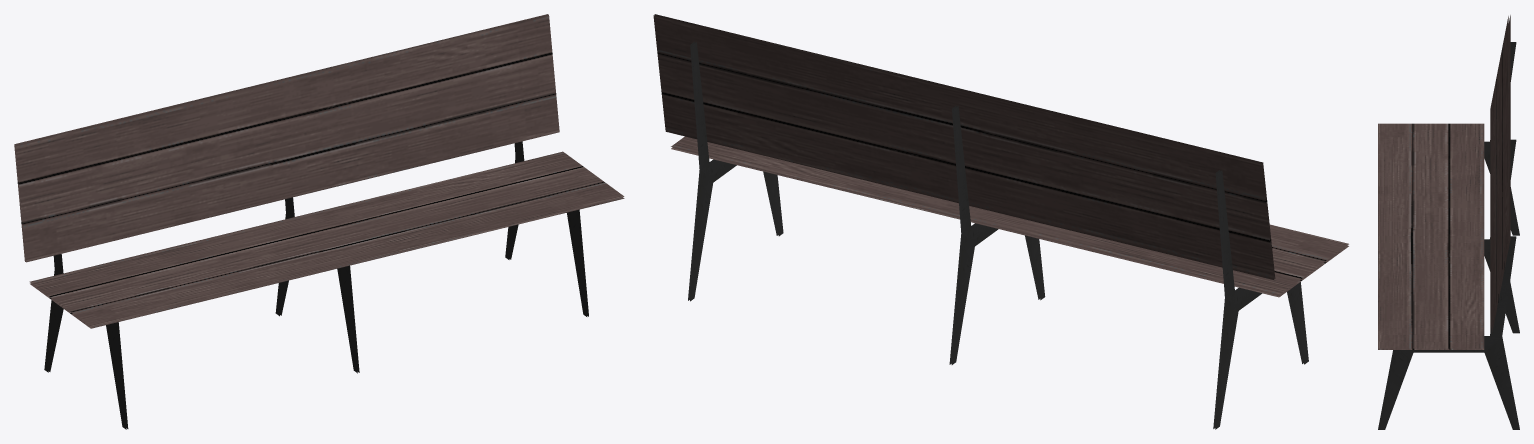
The model's file is bench.fbx.
3 views of the same model, side by side, from view 1: azimuth 30°, elevation 25°; view 2: azimuth 150°, elevation 25°; view 3: azimuth 270°, elevation 25° (orthographic). The views are drawn at different scales.
Parts seen in each view (by area): view 1: bench; view 2: bench; view 3: bench.
Part boxes in pixels (x1=…): bench: x1=14, y1=14, x2=624, y2=429; bench: x1=653, y1=14, x2=1348, y2=429; bench: x1=1378, y1=15, x2=1519, y2=429.
Bounding box in the file's own units: 300 × 128 × 80.
